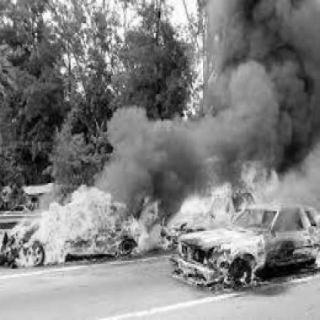Smoke: (89, 2, 318, 162)
